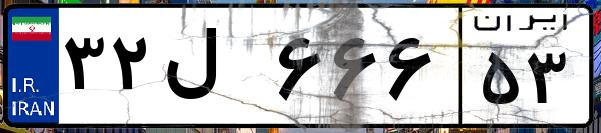2: (110, 28, 158, 98)
3: (57, 26, 110, 100), (525, 38, 570, 115)
5: (475, 38, 525, 113)
6: (270, 28, 330, 110), (385, 28, 445, 110), (330, 28, 385, 110)
ل: (158, 20, 270, 120)
